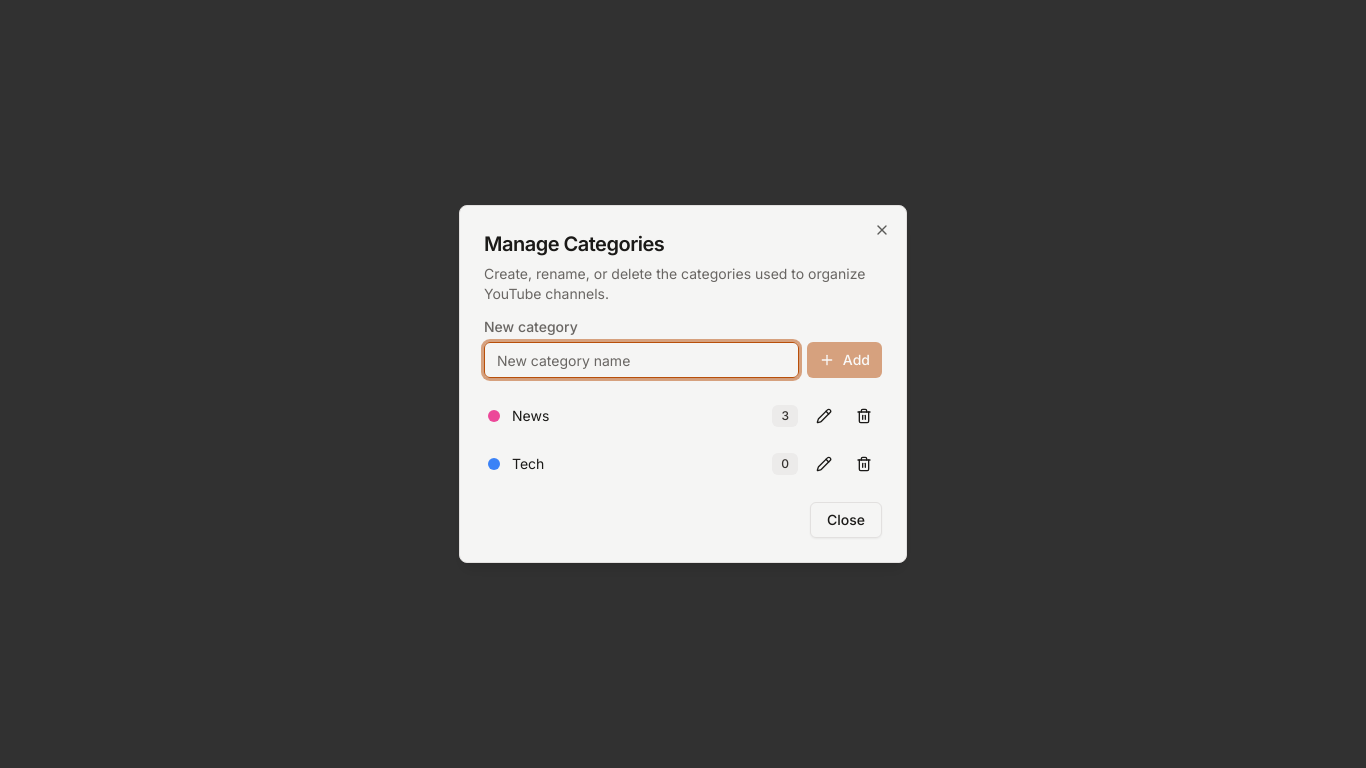
Test: ManageCategoriesModal › requires confirmation before deleting a category
The width and height of the screenshot is (1366, 768).
Expected: the text "News" is shown, [512, 407, 549, 424]
Click the 3rd button named "delete news".
click(864, 416)  # box [850, 402, 878, 430]
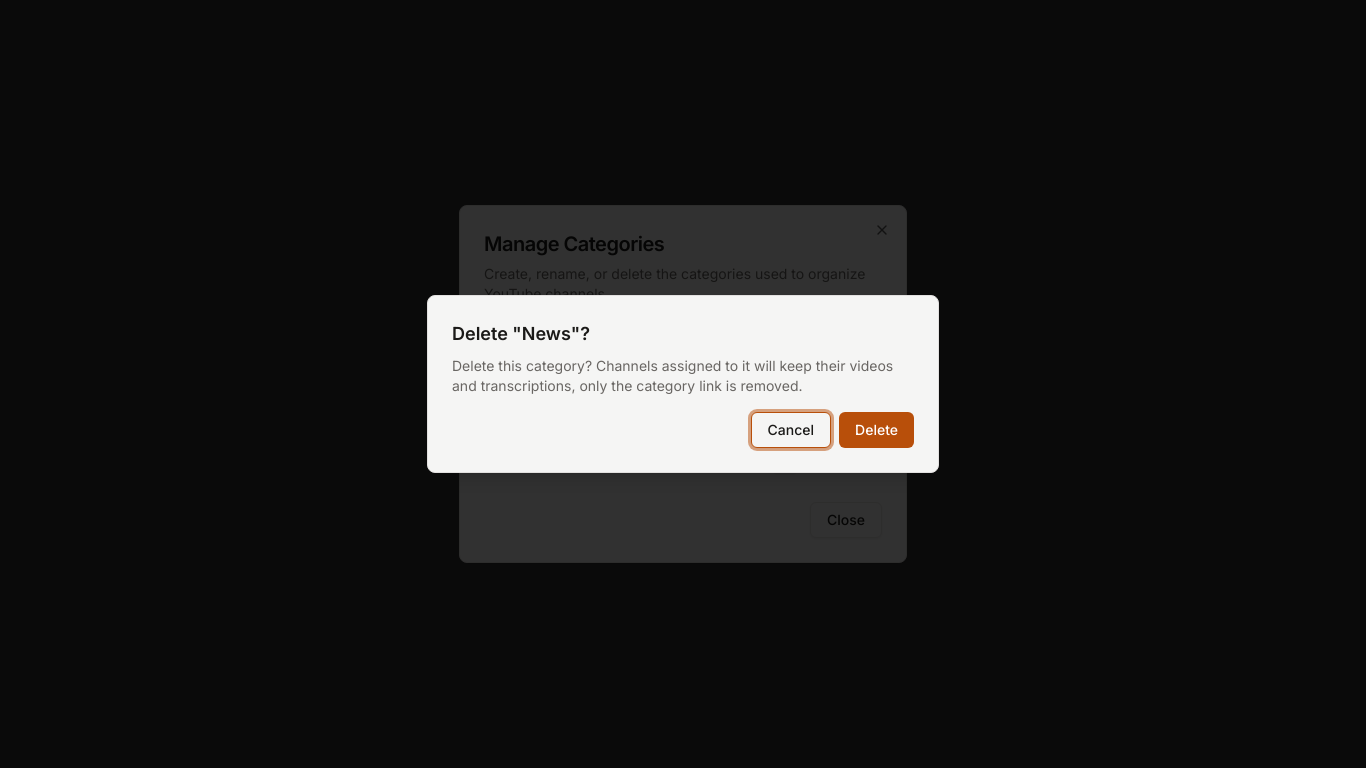
Now the heading "Delete \"News\"?" is shown, box [452, 323, 590, 344]
Click the button "Delete".
click(877, 430)  # box [839, 412, 914, 448]
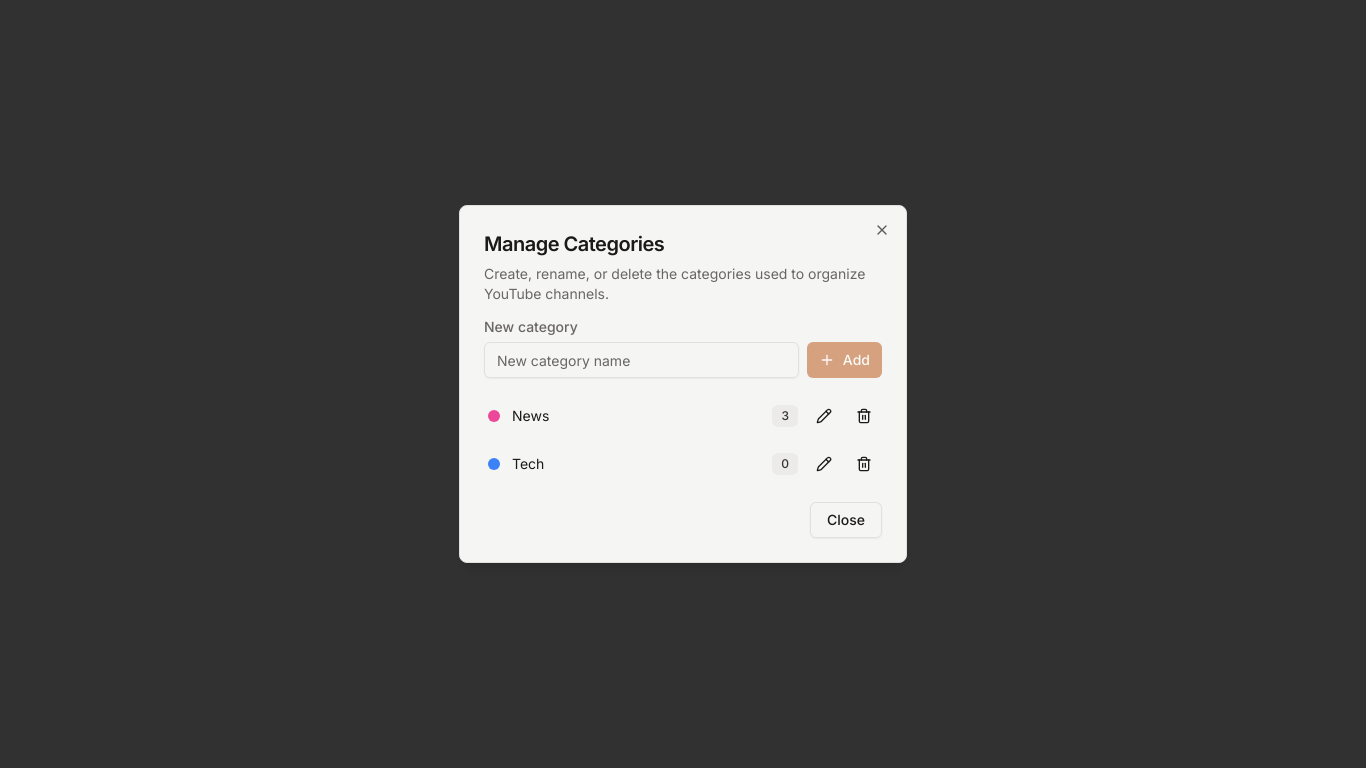
Now the heading "Delete \"News\"" is gone
